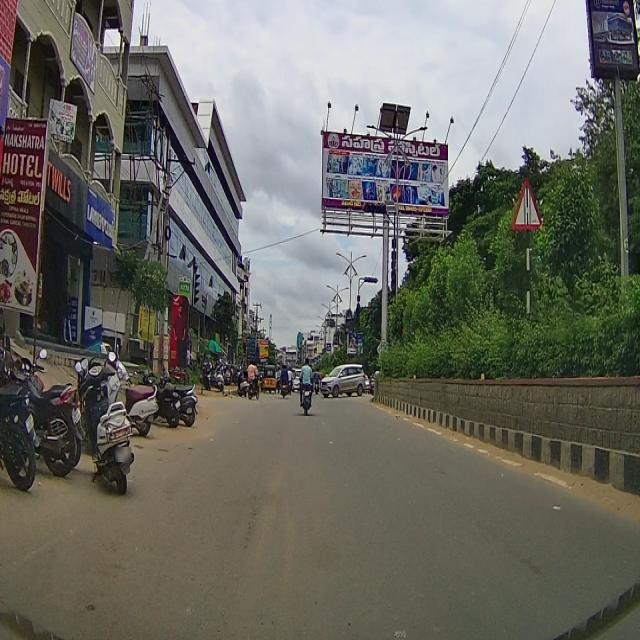gap-in-median: (510, 174, 542, 226)
